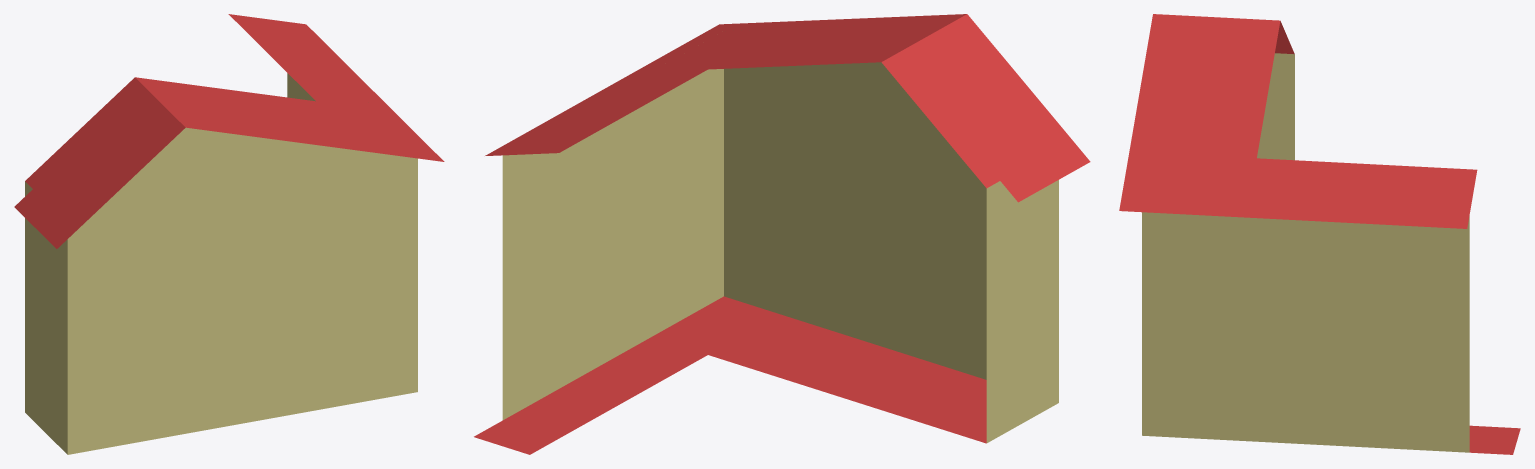
3 renders of one model, left to right at view 1: azimuth 30°, elevation 25°; view 2: azimuth 150°, elevation 25°; view 3: azimuth 270°, elevation 25°, orthographic. The views are drawn at different scales.
Bounding box in the file's own units: 11.23 × 9.87 × 8.47.
